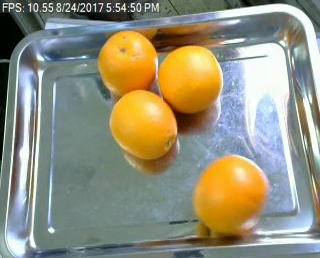Orange: (191, 154, 270, 234), (109, 87, 177, 158), (157, 45, 223, 114), (97, 30, 157, 95)
